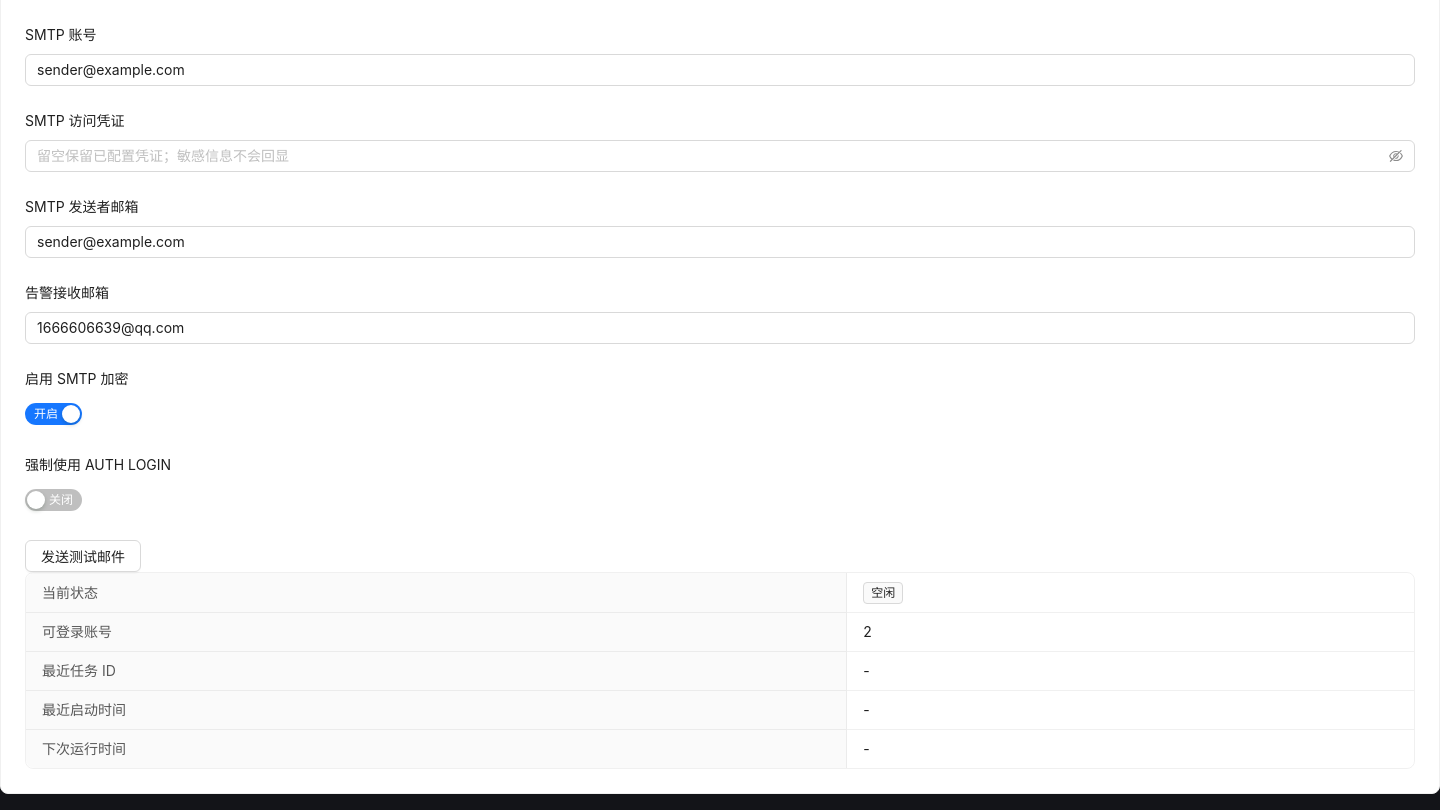
ChatGPTAutoReloginSection › sends a test email with the current unsaved SMTP form values
(page scrolled)
Click the button "发送测试邮件". click: (83, 556)
box: [25,540,141,572]
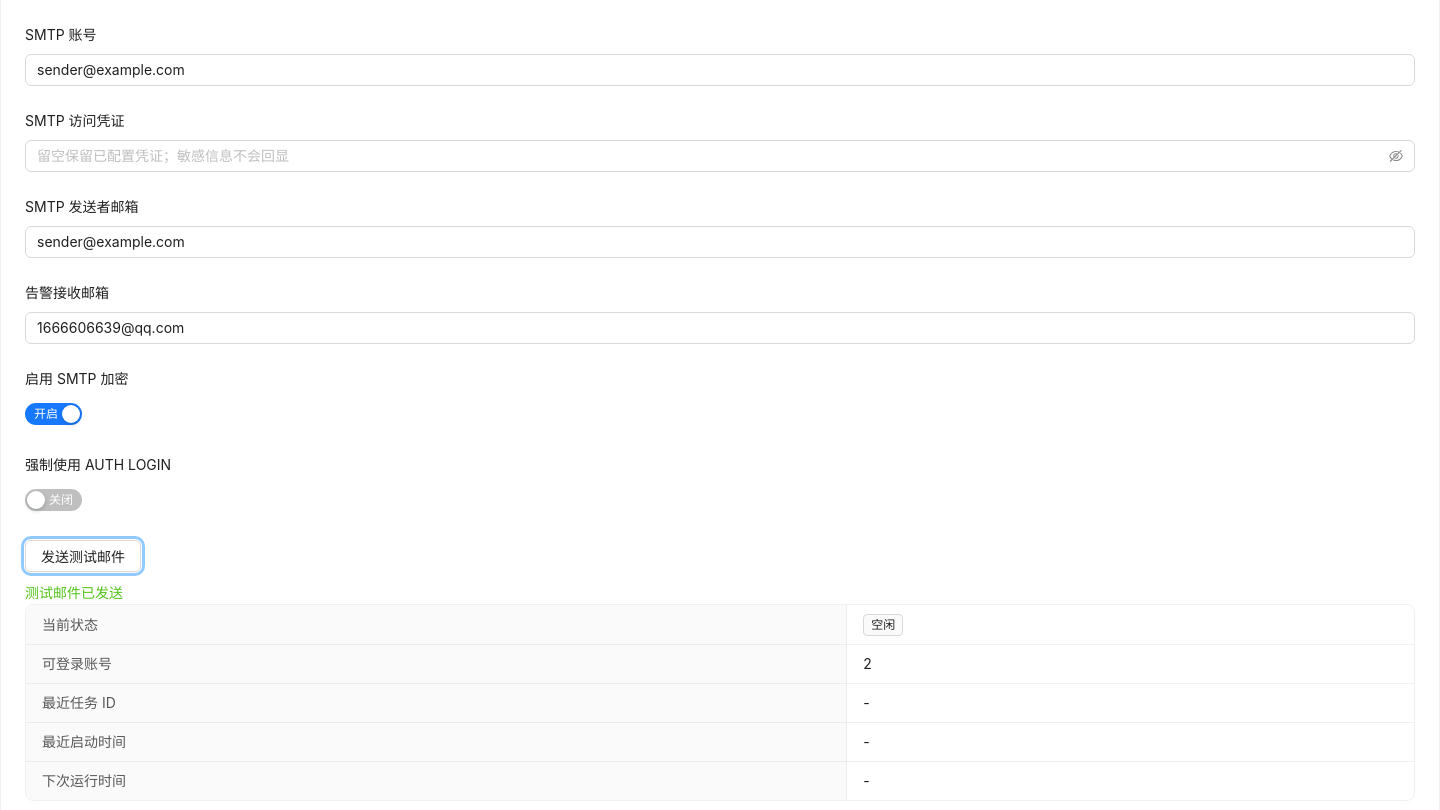
Now the text "测试邮件已发送" is shown, box [25,584,123,601]
